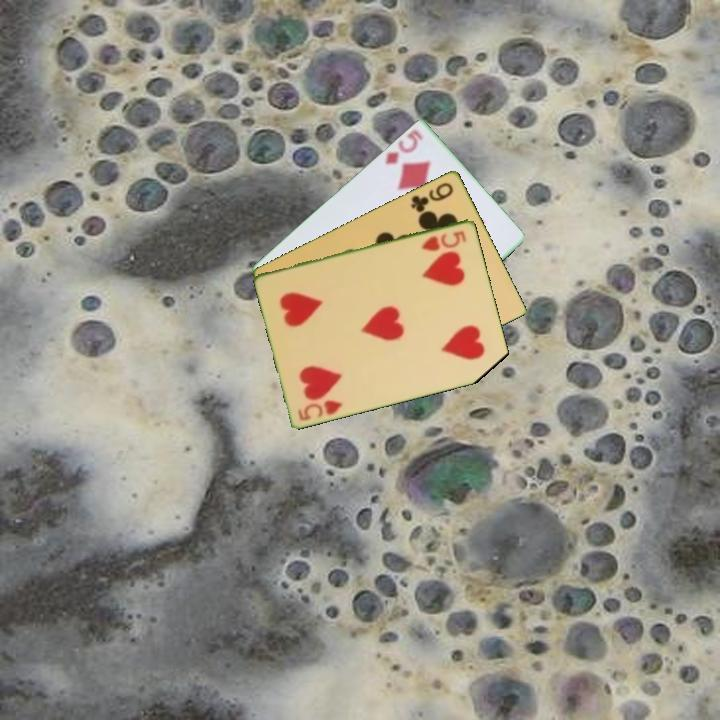5d: (381, 126, 426, 167)
5h: (294, 396, 346, 423), (418, 227, 469, 254)
9c: (407, 178, 456, 215)
